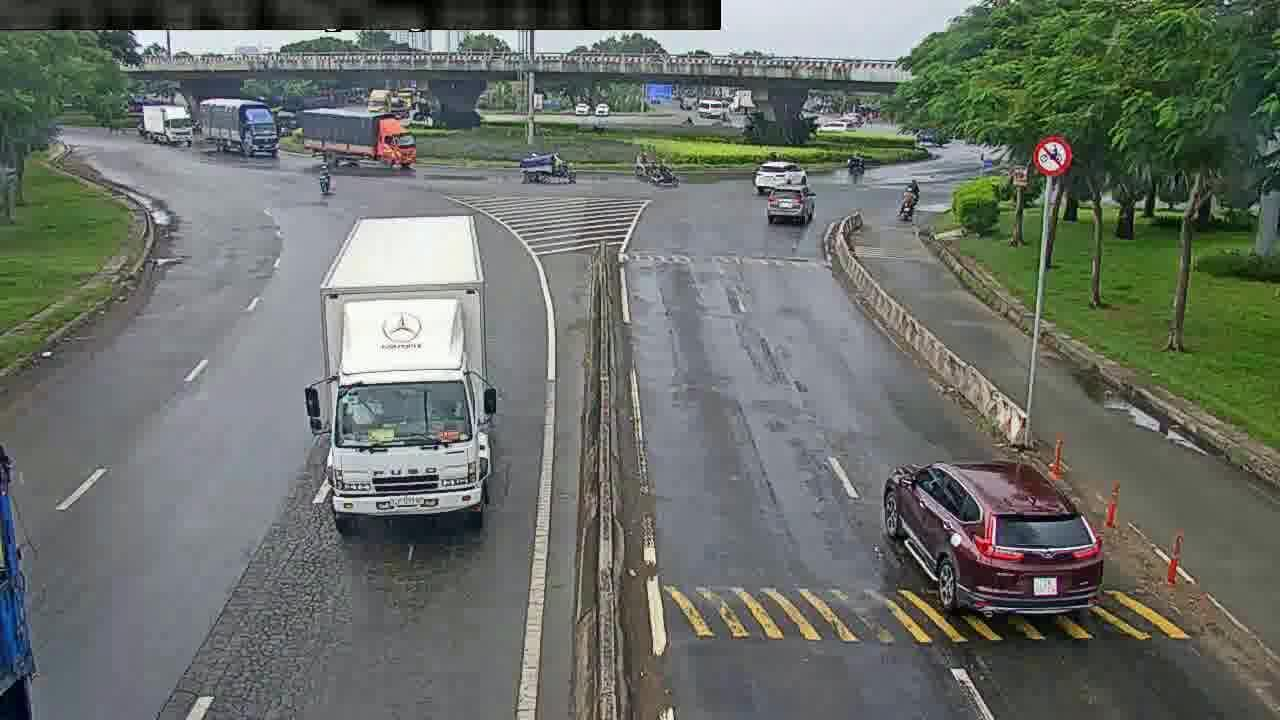8: (309, 211, 500, 534), (297, 105, 422, 170), (198, 97, 278, 158), (138, 103, 195, 151)
container: (876, 452, 1109, 620), (762, 182, 819, 228), (751, 156, 820, 194)
motorbike: (646, 164, 688, 186), (316, 161, 339, 201), (631, 152, 661, 178), (899, 185, 918, 221), (903, 180, 922, 194)
